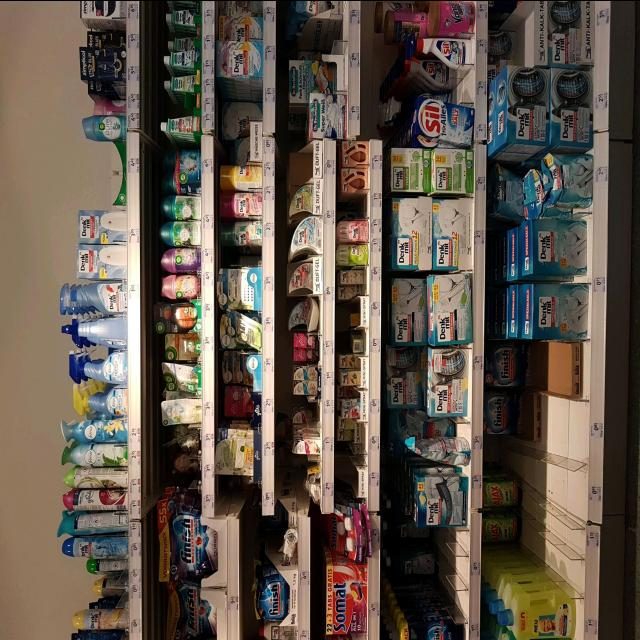empty_space: (400, 537, 460, 596), (521, 464, 579, 500), (522, 527, 577, 561), (547, 407, 581, 442), (284, 147, 312, 179)
